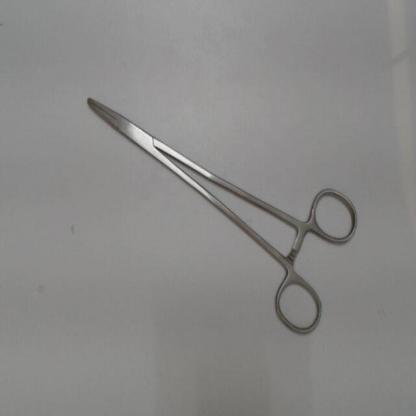8 Mayo Needle Holder: (71, 82, 366, 343)
